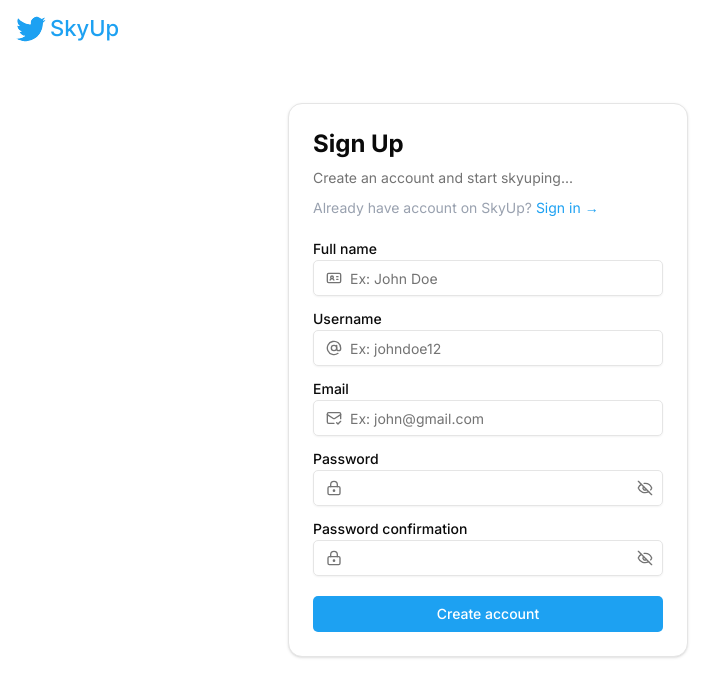
SignUp page › shows username error when special chars are typed
Type "bad username!" into the field labelled "Username" at point(502, 348), box [342,330,662,366]
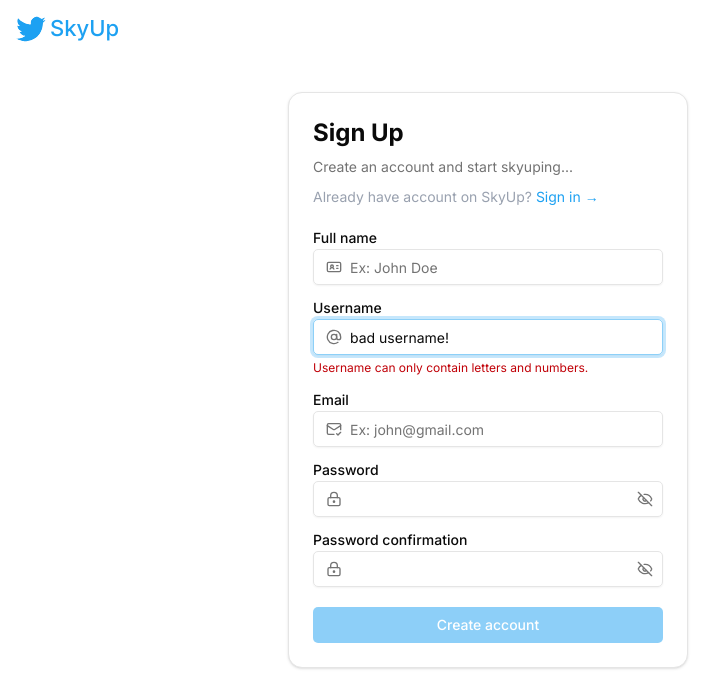
Check: the text "Username can only contain letters and numbers." is shown, box [313,360,588,375]
